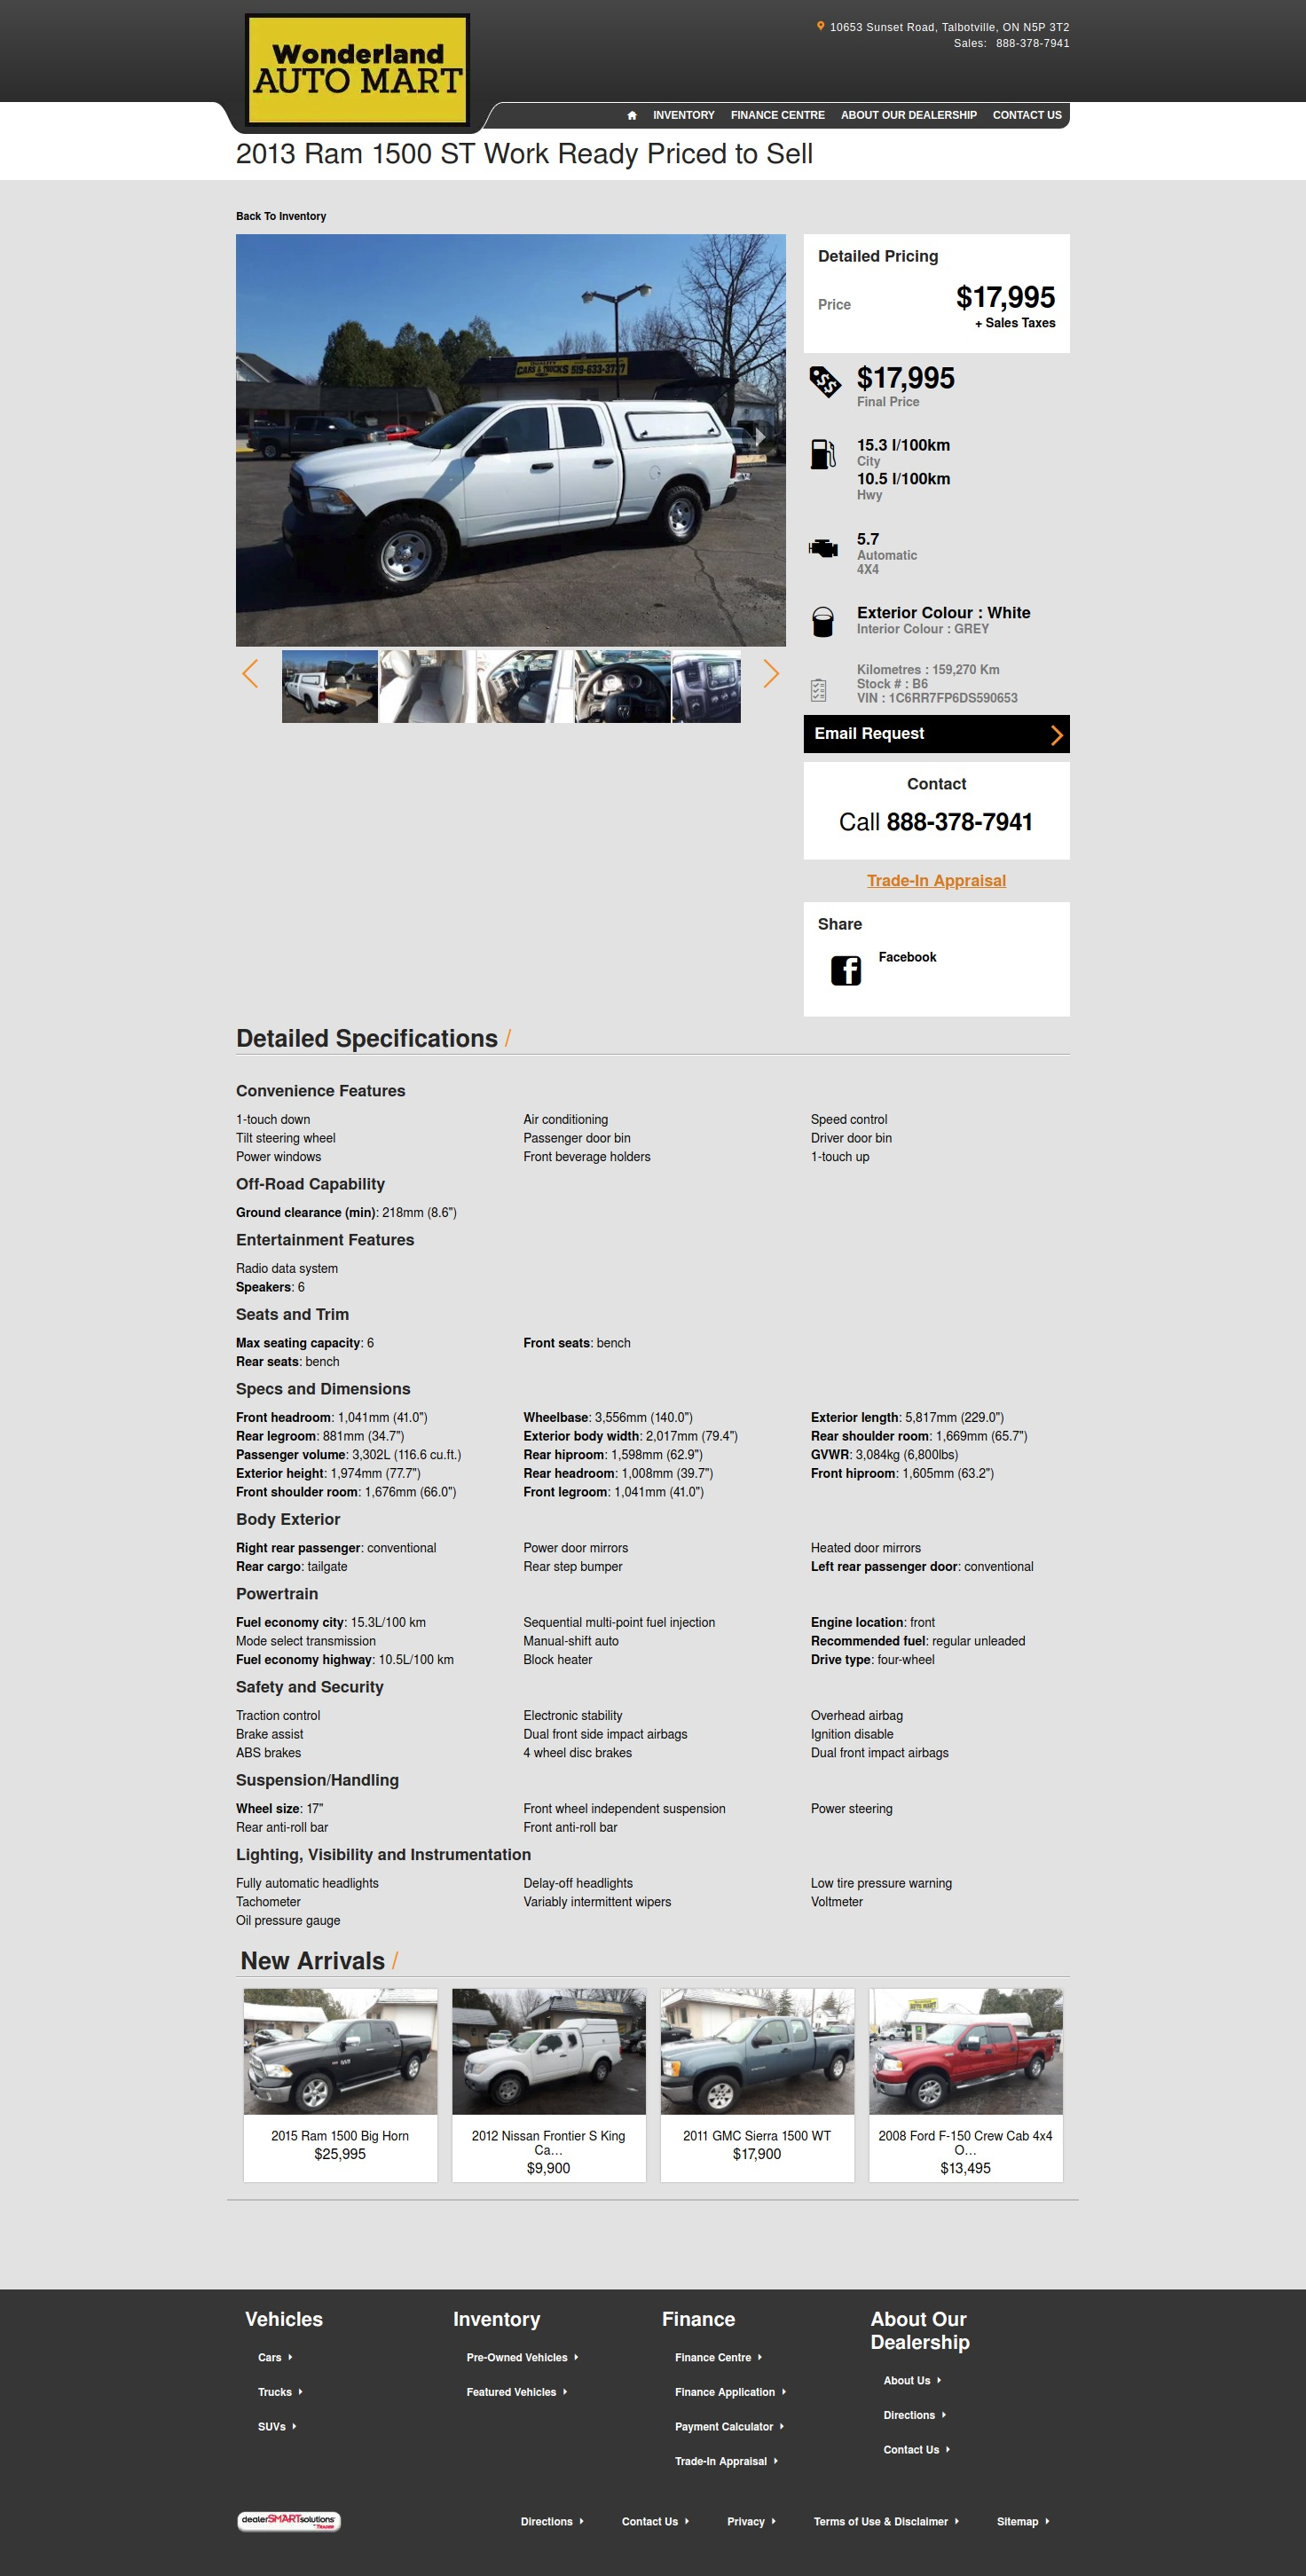car: (763, 659, 781, 689)
